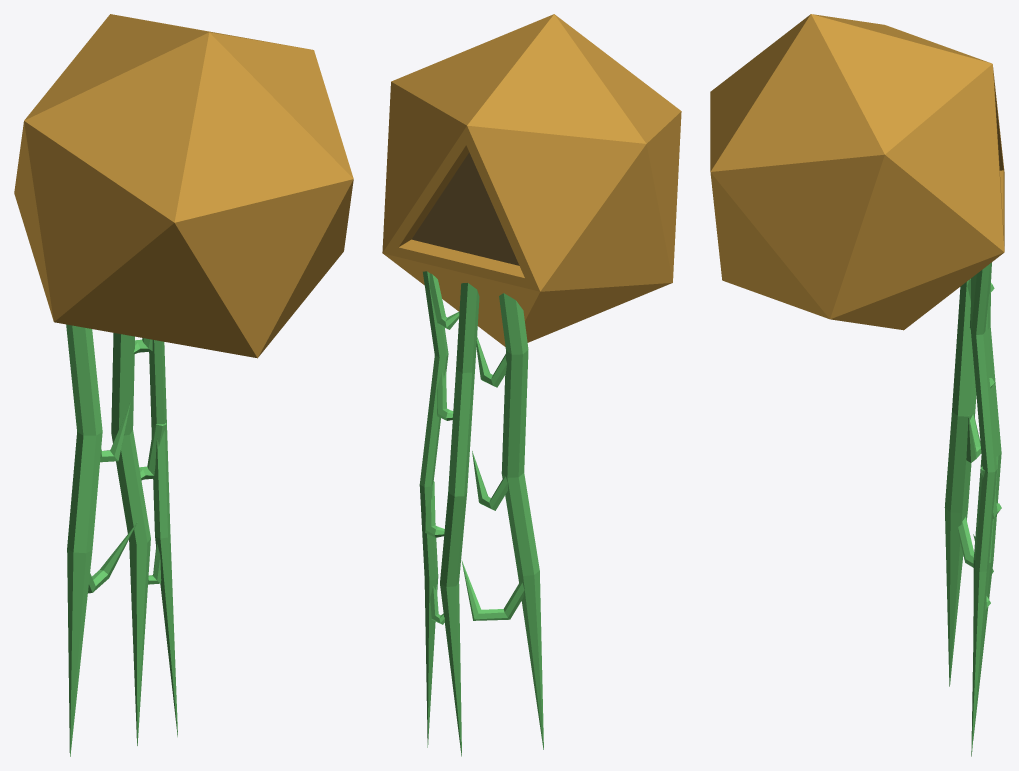
File: Cabane_seule_export_V001.fbx
3 views of the same model, side by side, from view 1: azimuth 30°, elevation 25°; view 2: azimuth 150°, elevation 25°; view 3: azimuth 270°, elevation 25° (orthographic). The views are drawn at different scales.
Parts seen in each view (by area): view 1: Platonic, Liane_3_2, Liane_2_2, Liane_1_2, Liane_5, Liane_1; view 2: Platonic, Liane_3_2, Liane_2_2, Liane_1_2, Liane_5, Liane_4, Liane_2, Liane_3, Liane_1; view 3: Platonic, Liane_3_2, Liane_1_2, Liane_2_2, Liane_4, Liane_5.
Boxes of the visible parts, <box> form: Platonic: <box>14,14,353,358</box>; Liane_3_2: <box>66,324,102,756</box>; Liane_2_2: <box>111,333,150,745</box>; Liane_1_2: <box>149,340,177,736</box>; Liane_5: <box>88,523,136,593</box>; Liane_1: <box>139,424,166,480</box>; Platonic: <box>382,14,681,346</box>; Liane_3_2: <box>499,293,543,749</box>; Liane_2_2: <box>440,283,479,756</box>; Liane_1_2: <box>419,271,448,747</box>; Liane_5: <box>461,560,524,620</box>; Liane_4: <box>472,451,507,510</box>; Liane_2: <box>429,273,459,329</box>; Liane_3: <box>476,336,506,387</box>; Liane_1: <box>425,481,444,537</box>; Platonic: <box>710,14,1004,330</box>; Liane_3_2: <box>944,280,976,686</box>; Liane_1_2: <box>971,262,997,756</box>; Liane_2_2: <box>970,274,1001,738</box>; Liane_4: <box>966,414,981,462</box>; Liane_5: <box>958,517,993,573</box>.
Size of the model in its own units: 210 by 543 by 201.
